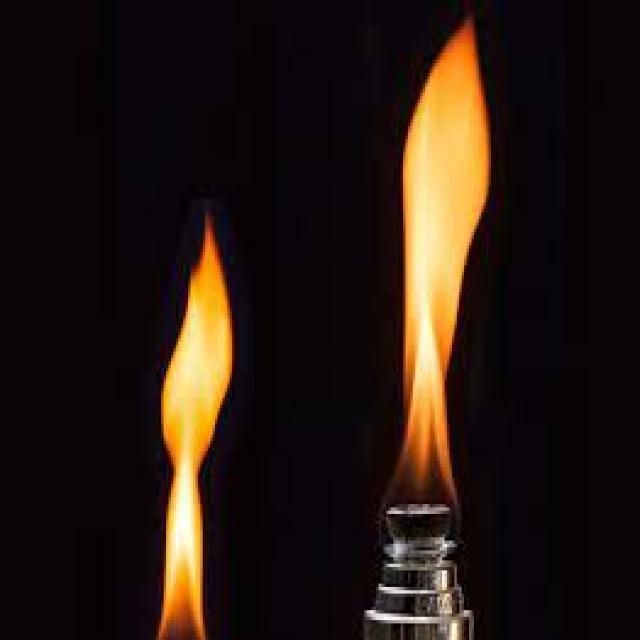fire: (100, 192, 262, 640), (381, 10, 503, 528)
